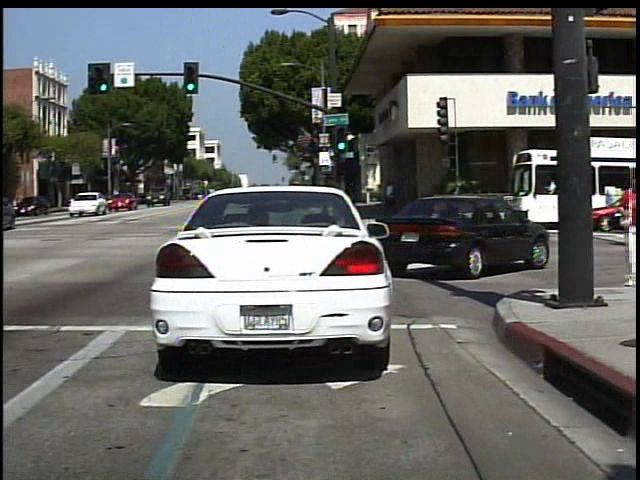person: (615, 167, 639, 289), (381, 176, 400, 218)
